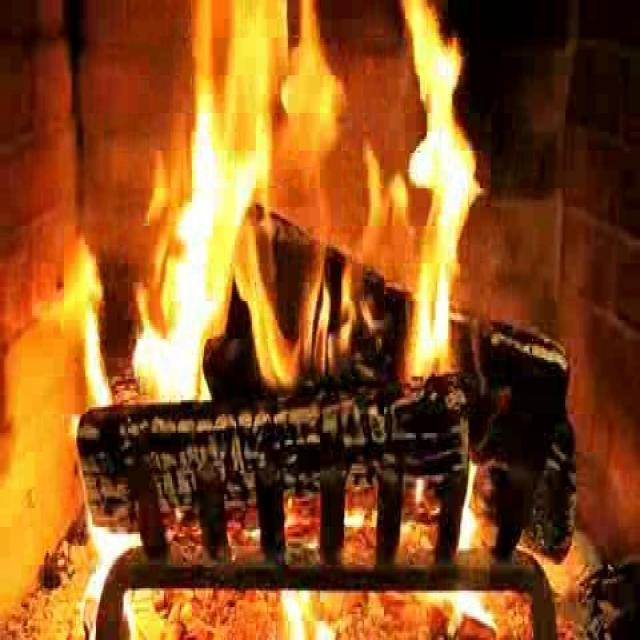Fire: (160, 14, 468, 418)
